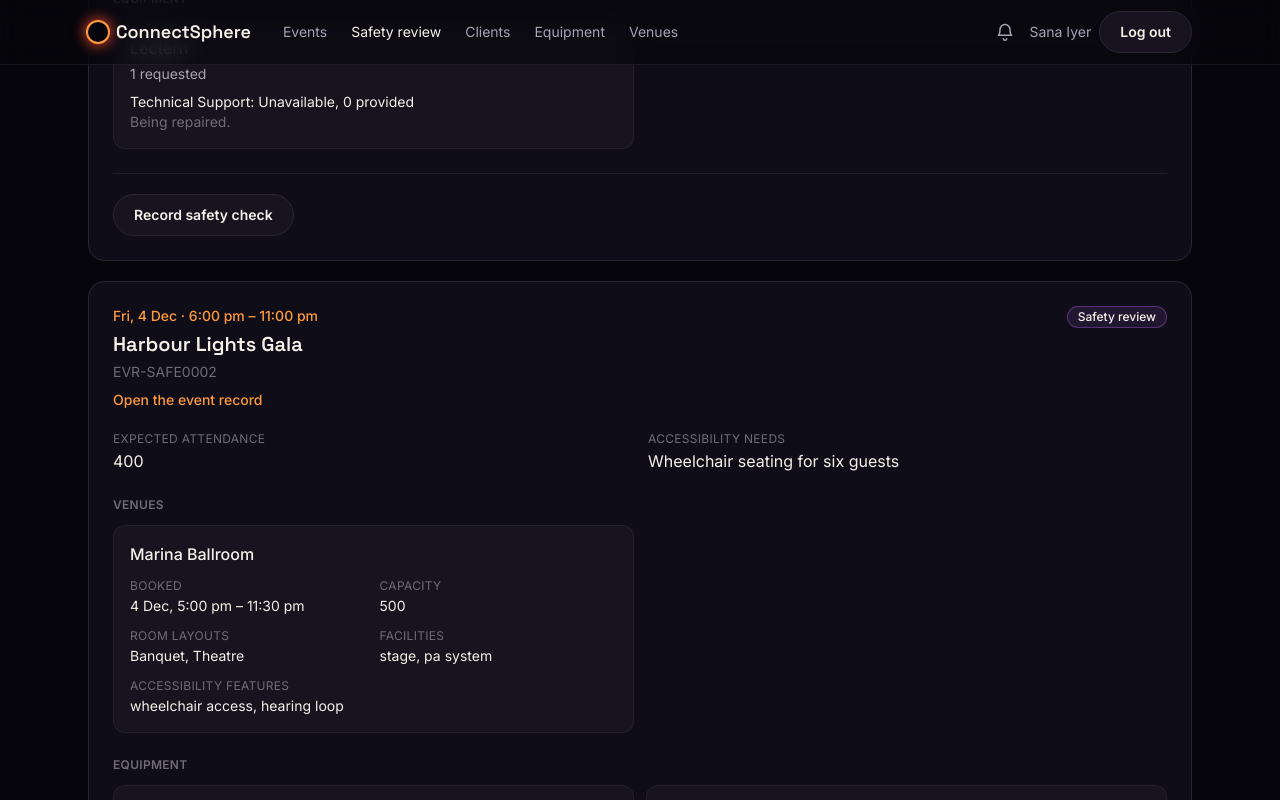
Test: SCRUM-97 and SCRUM-24 AC6 the Safety Officer list › opens each event's whole read-only record from its card (SCRUM-24 AC9)
(page scrolled)
What coordinates should you click on to do the following:
click the link "Open the event record"
I would click on:
 (188, 400)
Its box is [113,390,262,410].
(page scrolled)
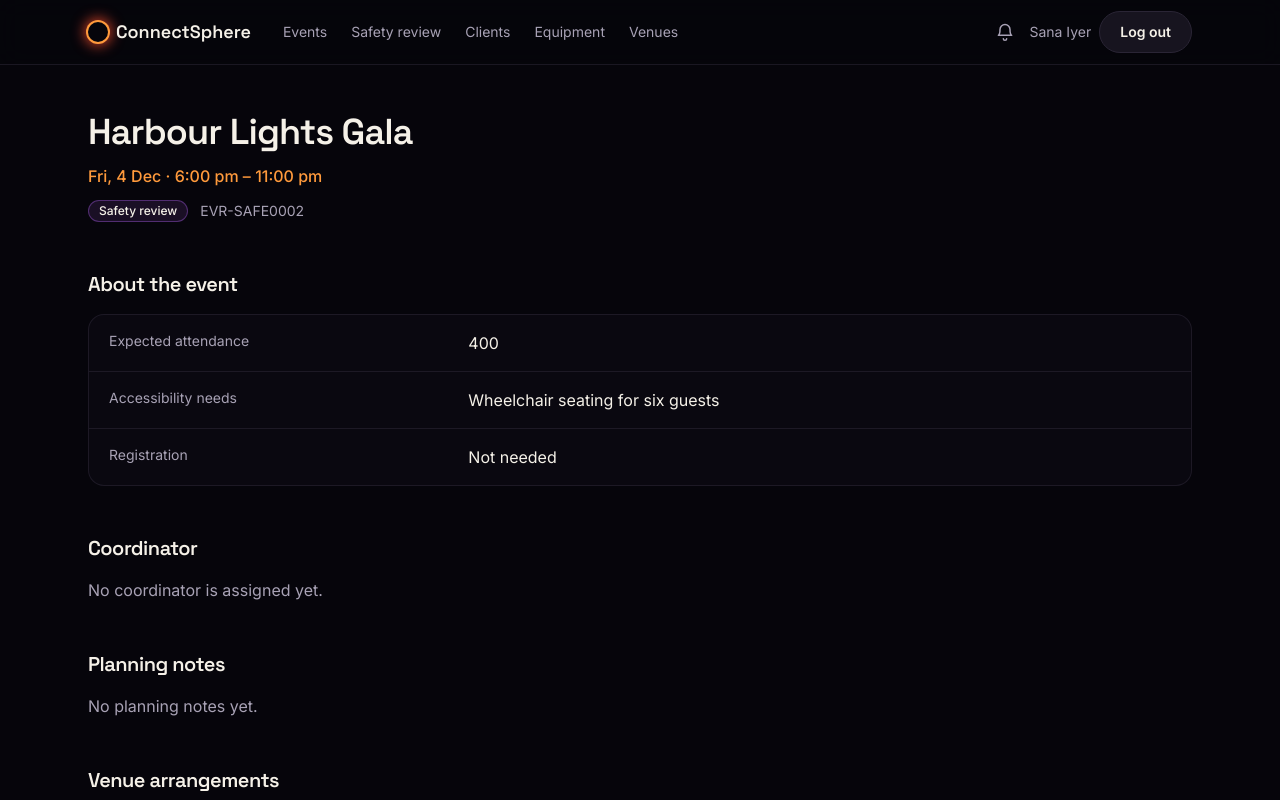
Expected: the heading "Harbour Lights Gala" is shown, [88,109,413,155]
